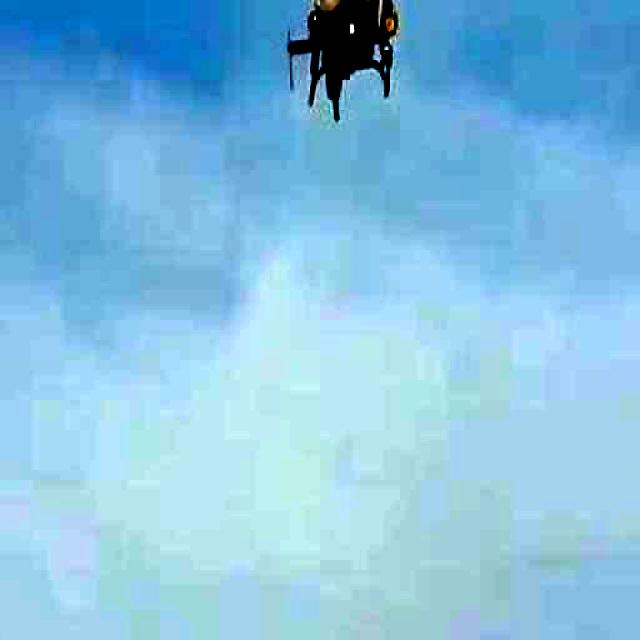drone: (220, 0, 494, 109)
